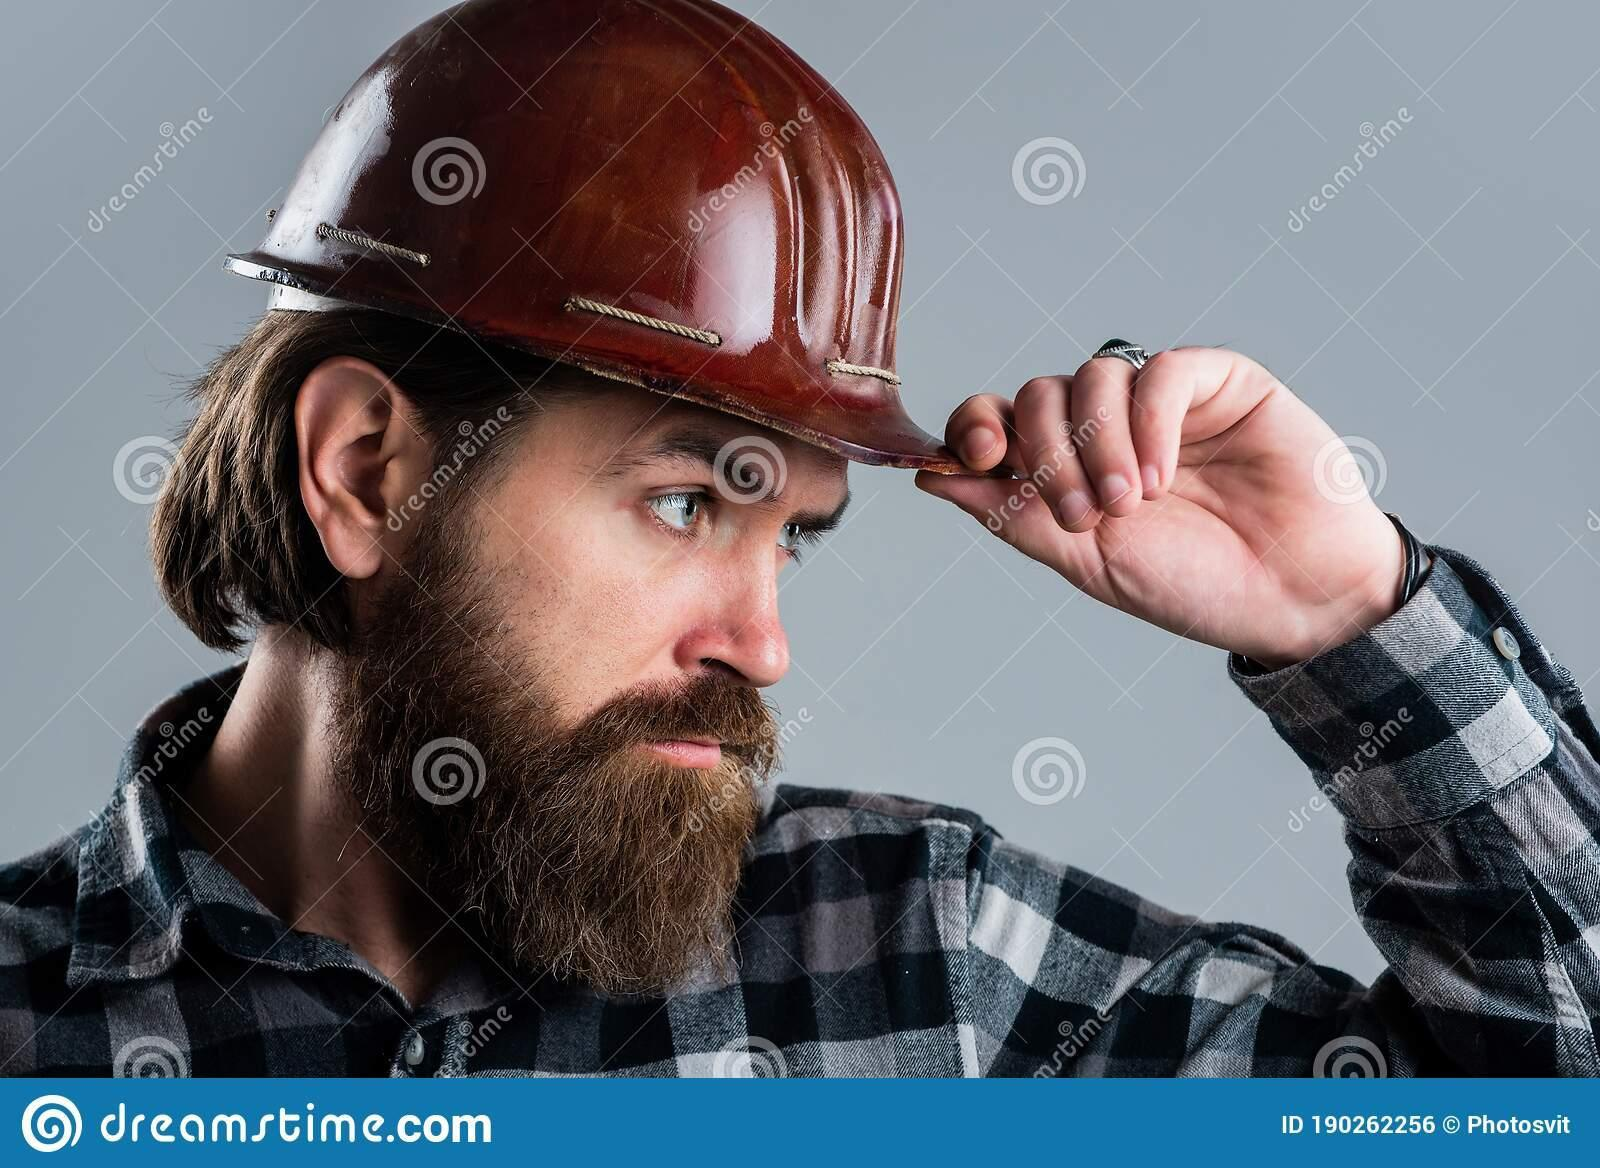hardhat: (228, 1, 1022, 477)
worker: (1, 3, 1600, 1082)
